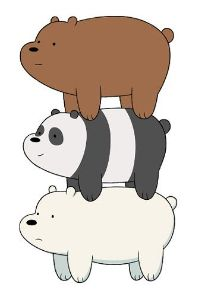bear: (18, 11, 180, 119), (15, 185, 183, 282), (21, 105, 177, 200)
